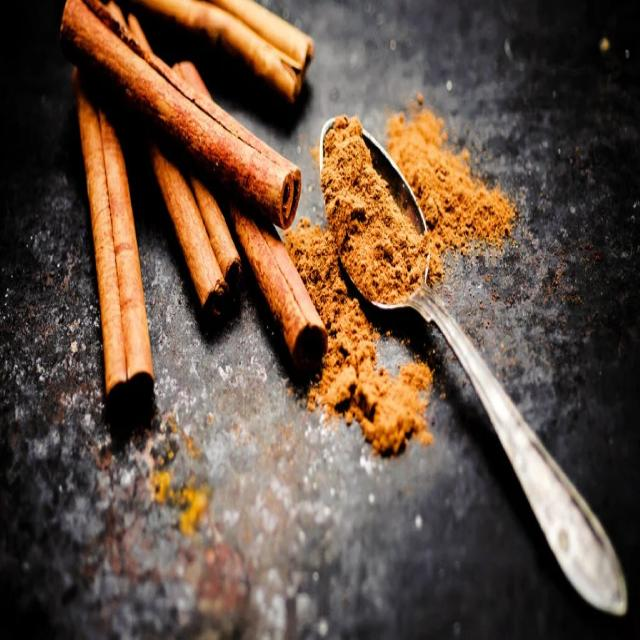Cinnamon: (61, 0, 301, 228), (72, 69, 126, 393), (229, 200, 328, 372), (138, 0, 302, 102), (149, 140, 229, 312)
